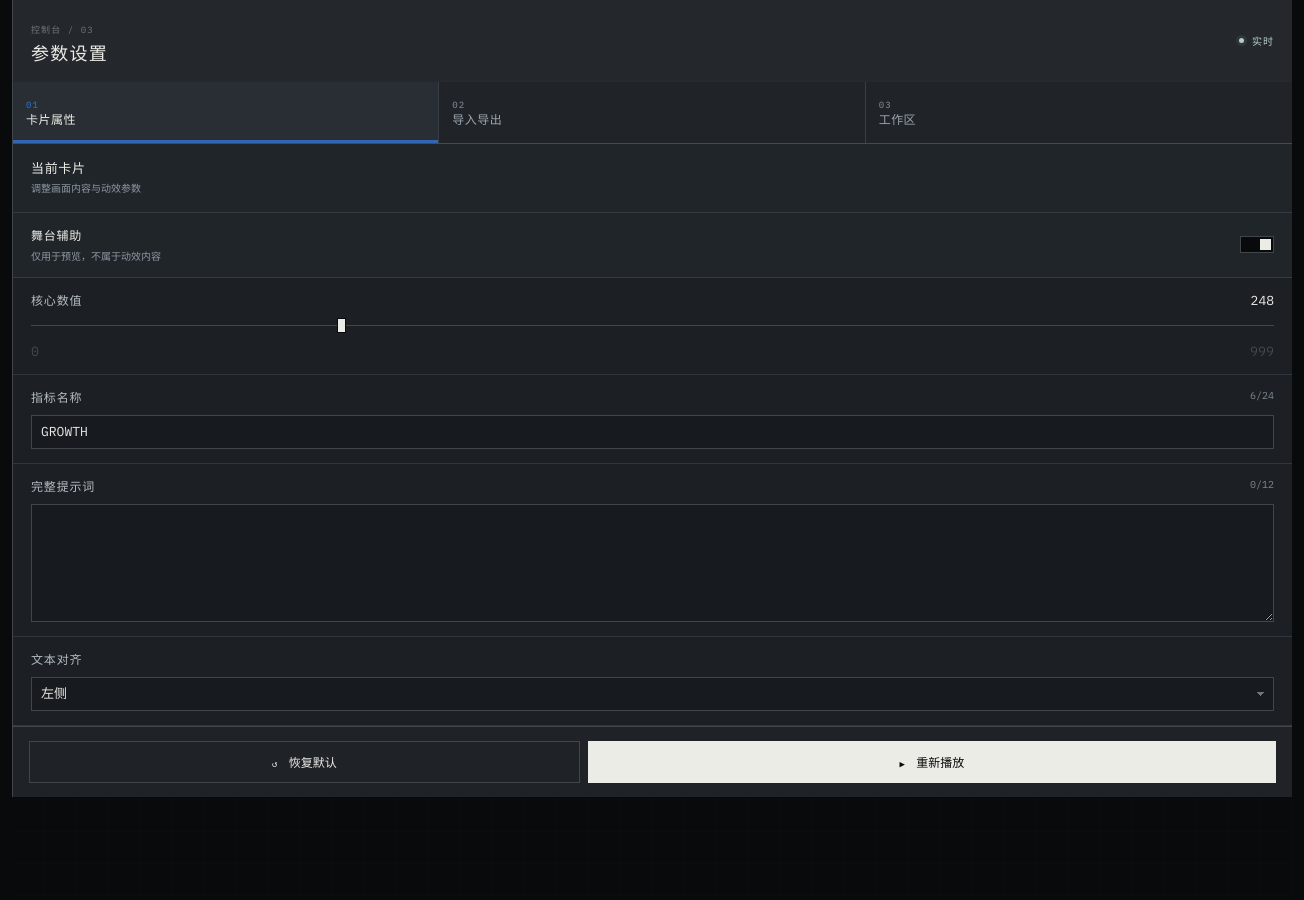
Test case: ParameterPanel › groups properties, transfer tools, and workspace actions into tabs
Expected: the label labelled "核心数值" is shown, [13,278,1292,375]
What coordinates should you click on to do the following:
click the tab "02 导入导出"
I would click on:
 (477, 120)
Its box is [439,82,866,143].
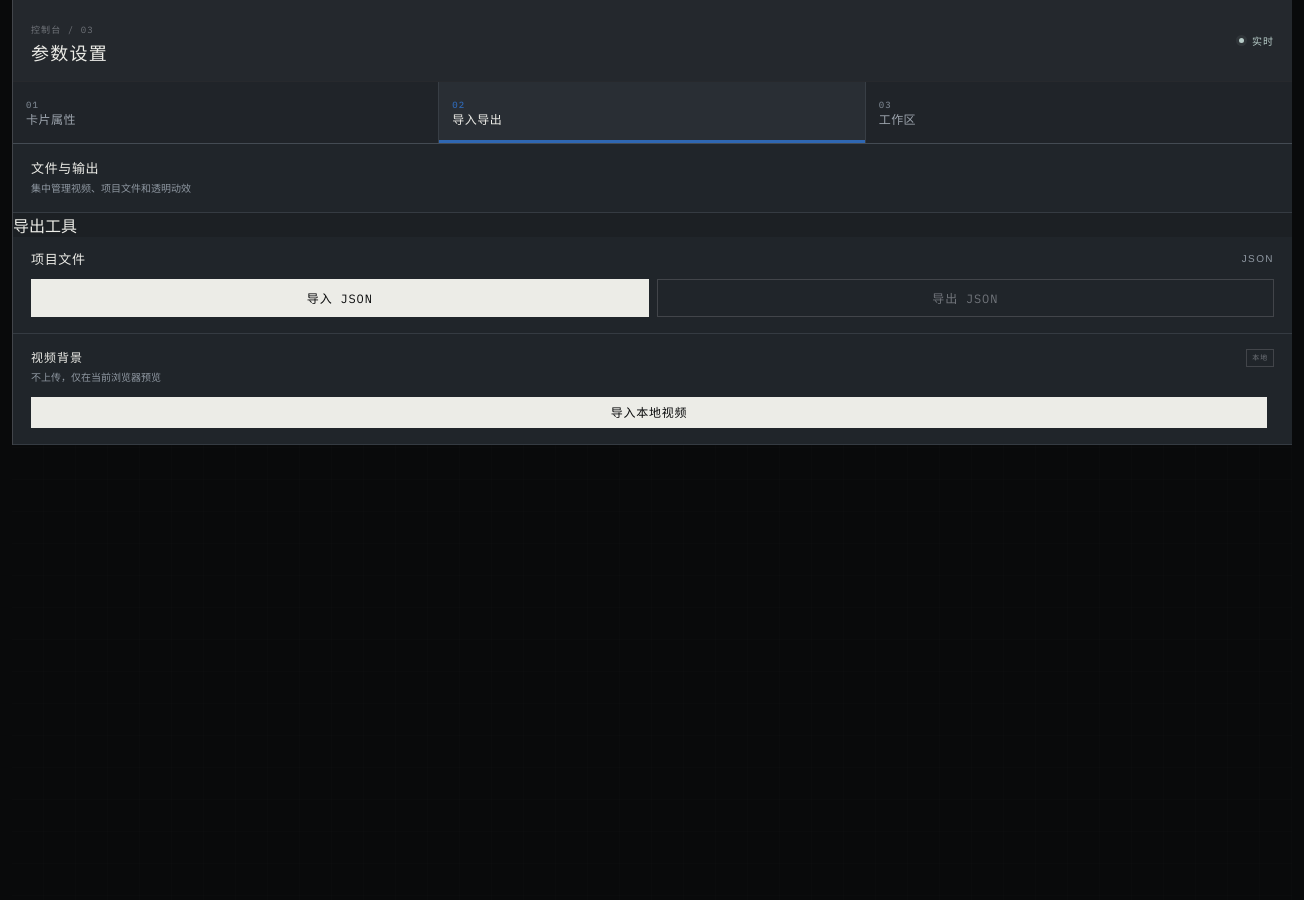
Now the panel named "导入导出" is shown, box [13,144,1292,445]
Now the text named "透明动效导出" is shown, box [13,217,77,237]
Now the element labelled "项目文件" is shown, box [13,237,1292,334]
What coordinates should you click on to do the following:
click the tab "03 工作区"
I would click on:
 (897, 120)
Its box is [866,82,1292,143].
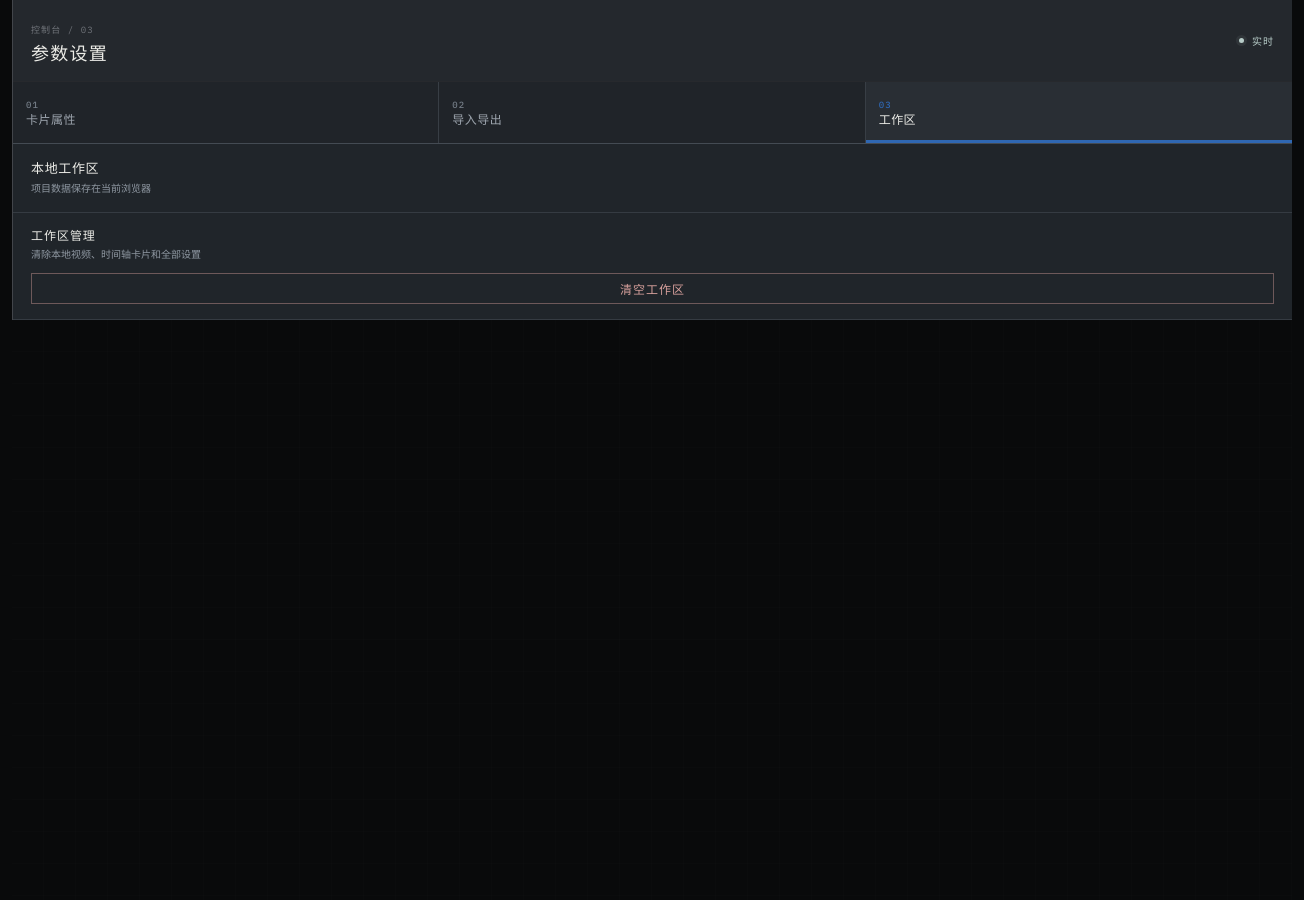
Now the panel "工作区" is shown, box [13,144,1292,320]
Now the element labelled "工作区管理" is shown, box [13,213,1292,320]
Now the panel with test id "parameter-panel-transfer" is gone
